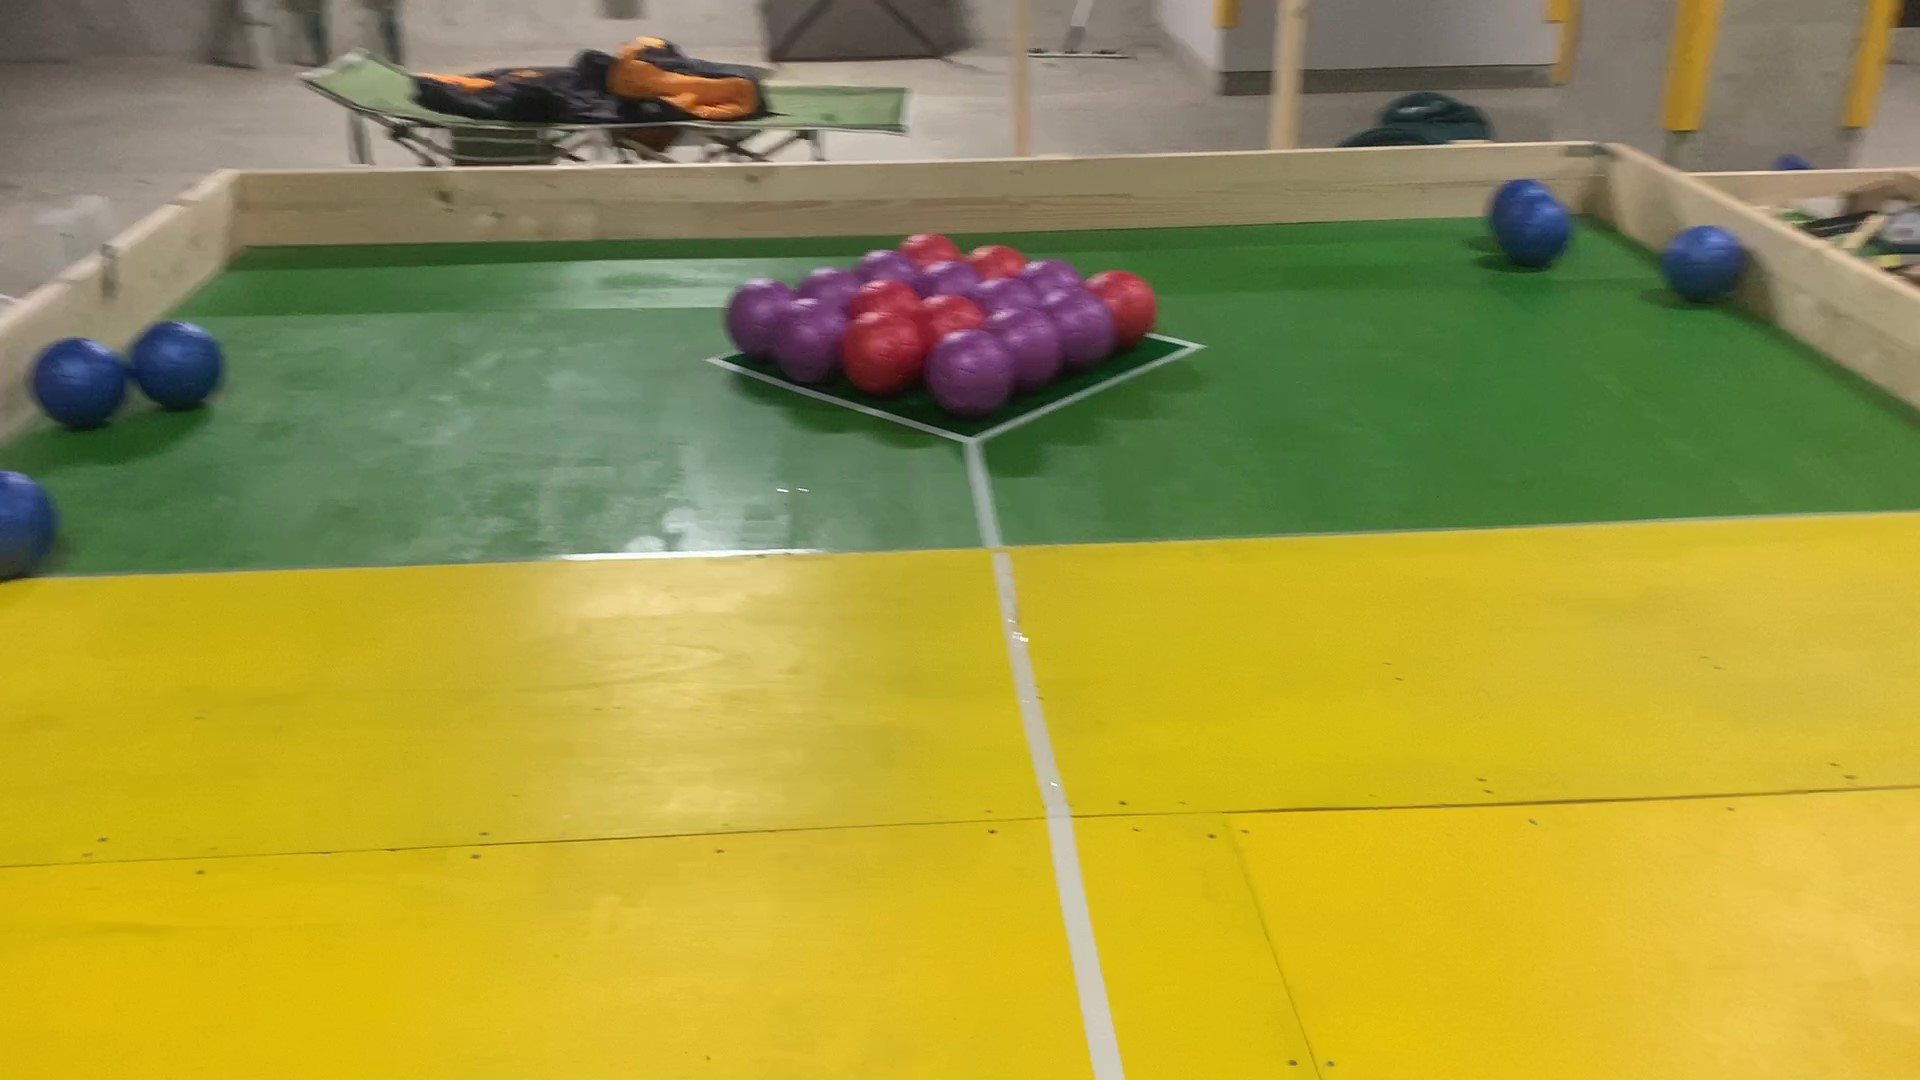blue: (38, 345, 116, 429), (136, 324, 219, 400), (1665, 223, 1738, 295), (3, 469, 51, 570), (1506, 202, 1571, 264), (1491, 173, 1559, 196)
purple: (936, 334, 1004, 407), (782, 302, 836, 382), (731, 282, 778, 353), (1006, 316, 1054, 386), (1058, 294, 1104, 364), (804, 268, 852, 306), (1034, 260, 1076, 294), (986, 280, 1031, 311), (861, 248, 906, 276), (926, 268, 973, 291)
red: (843, 324, 913, 378), (1118, 276, 1159, 340), (919, 301, 982, 330), (906, 228, 955, 265), (973, 244, 1025, 274), (858, 282, 903, 314)
